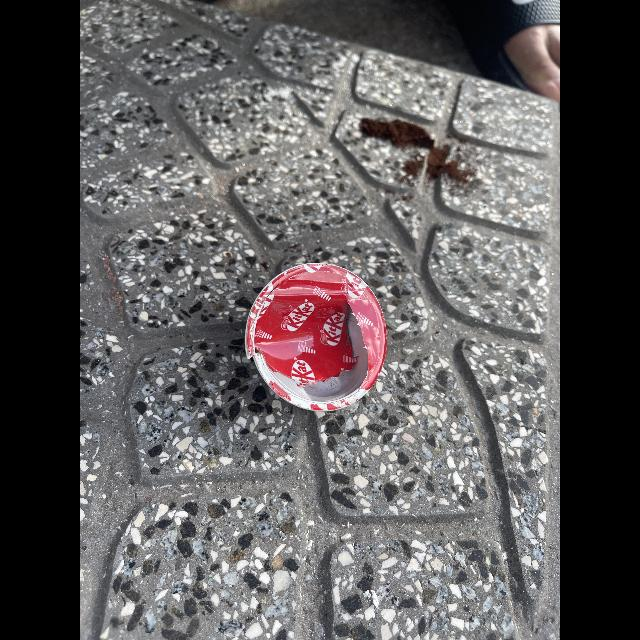damaged_capsule: (237, 252, 397, 422)
